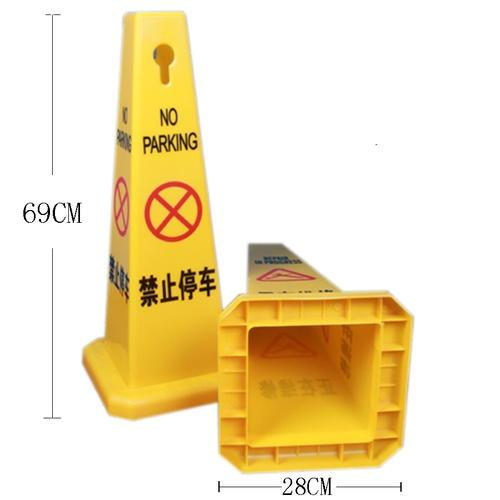cone_barrel: (81, 10, 246, 426)
